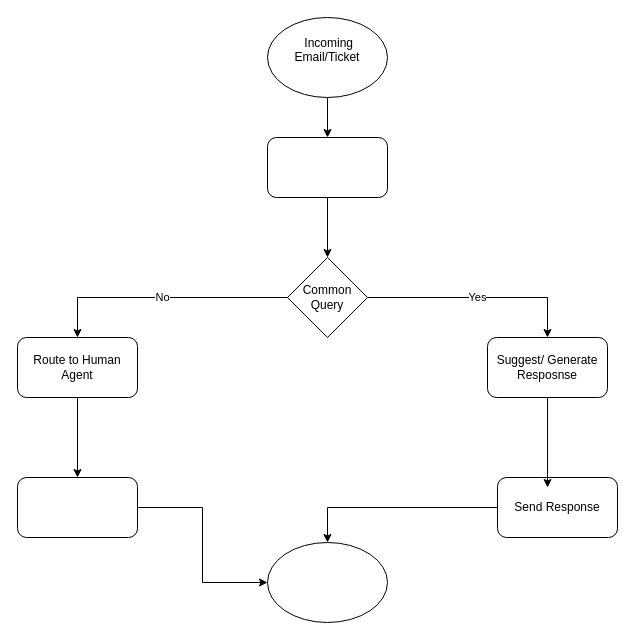
Some shapes in this 635 by 640 pixel diagram are drawn without their labels. Each missing label, with the centre of its shape:
AI Analyzes and categorizes: (x=327, y=167)
End: (x=327, y=582)
Human Handles issues: (x=77, y=507)
